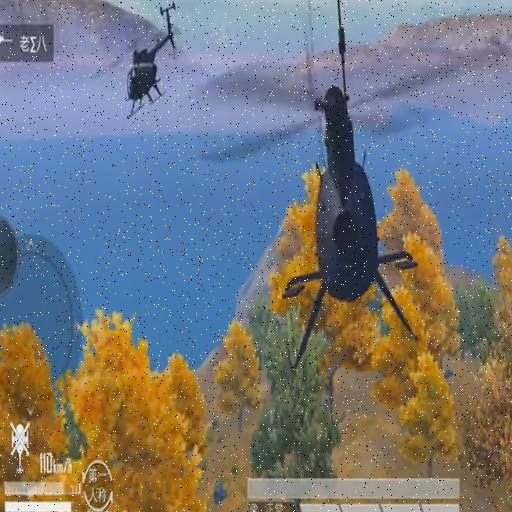helicopter: (255, 1, 445, 390), (90, 1, 196, 138)
